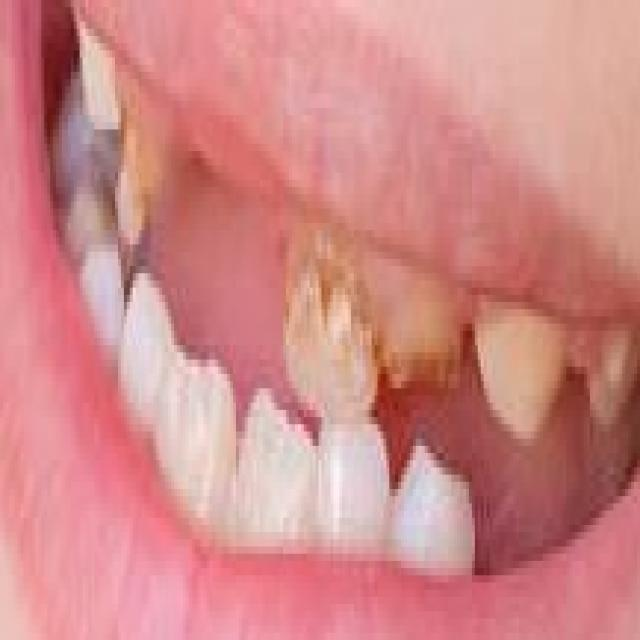caries: (283, 210, 384, 418), (102, 90, 173, 266), (386, 282, 456, 414)
